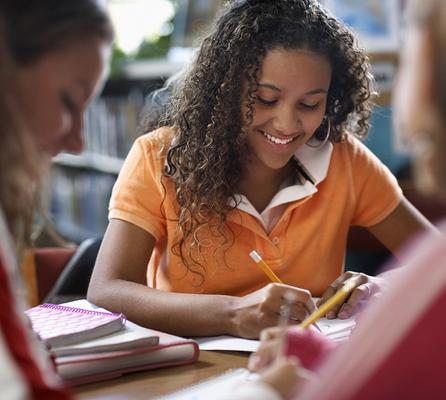person: (86, 4, 444, 343)
